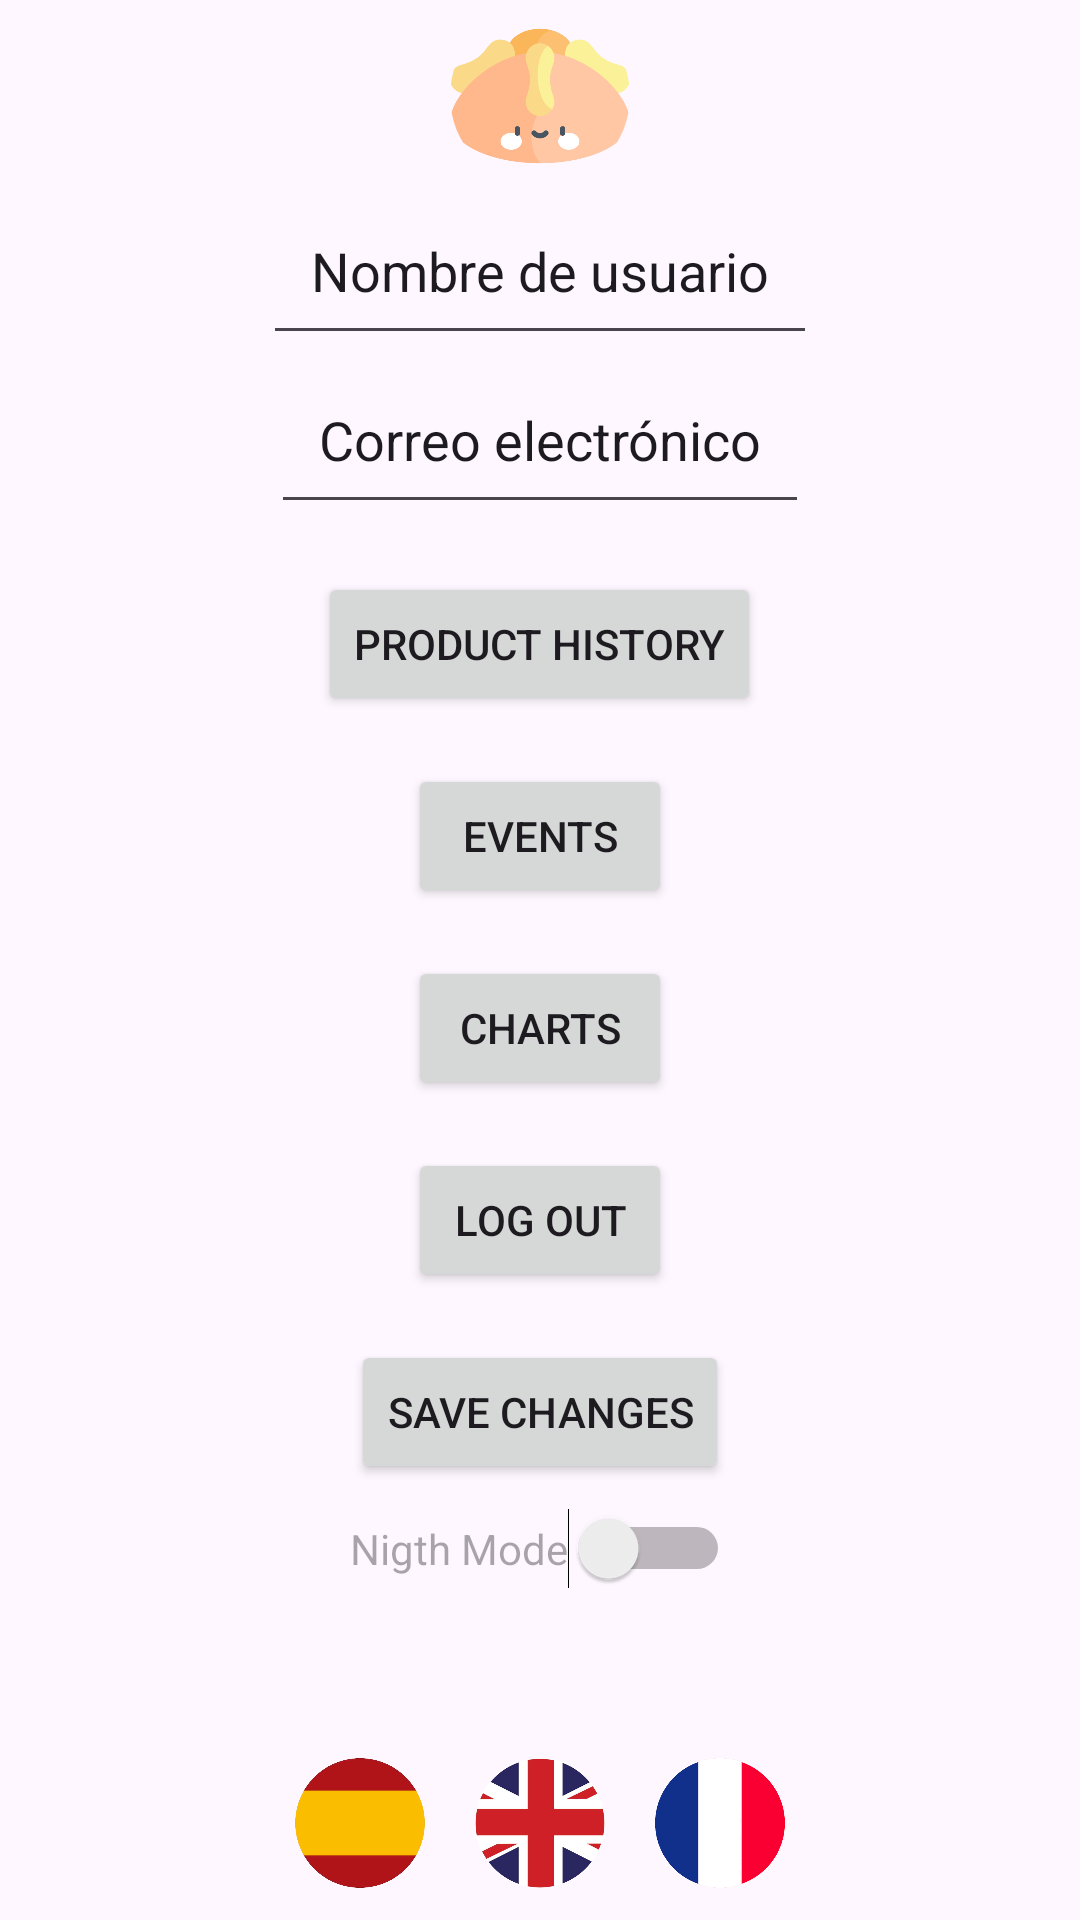

Screen size 1080×1920. Icon name, then its center in pixels as (x,y):
englishbandera: (540,1823)
francebandera: (720,1823)
spainbandera: (360,1823)
